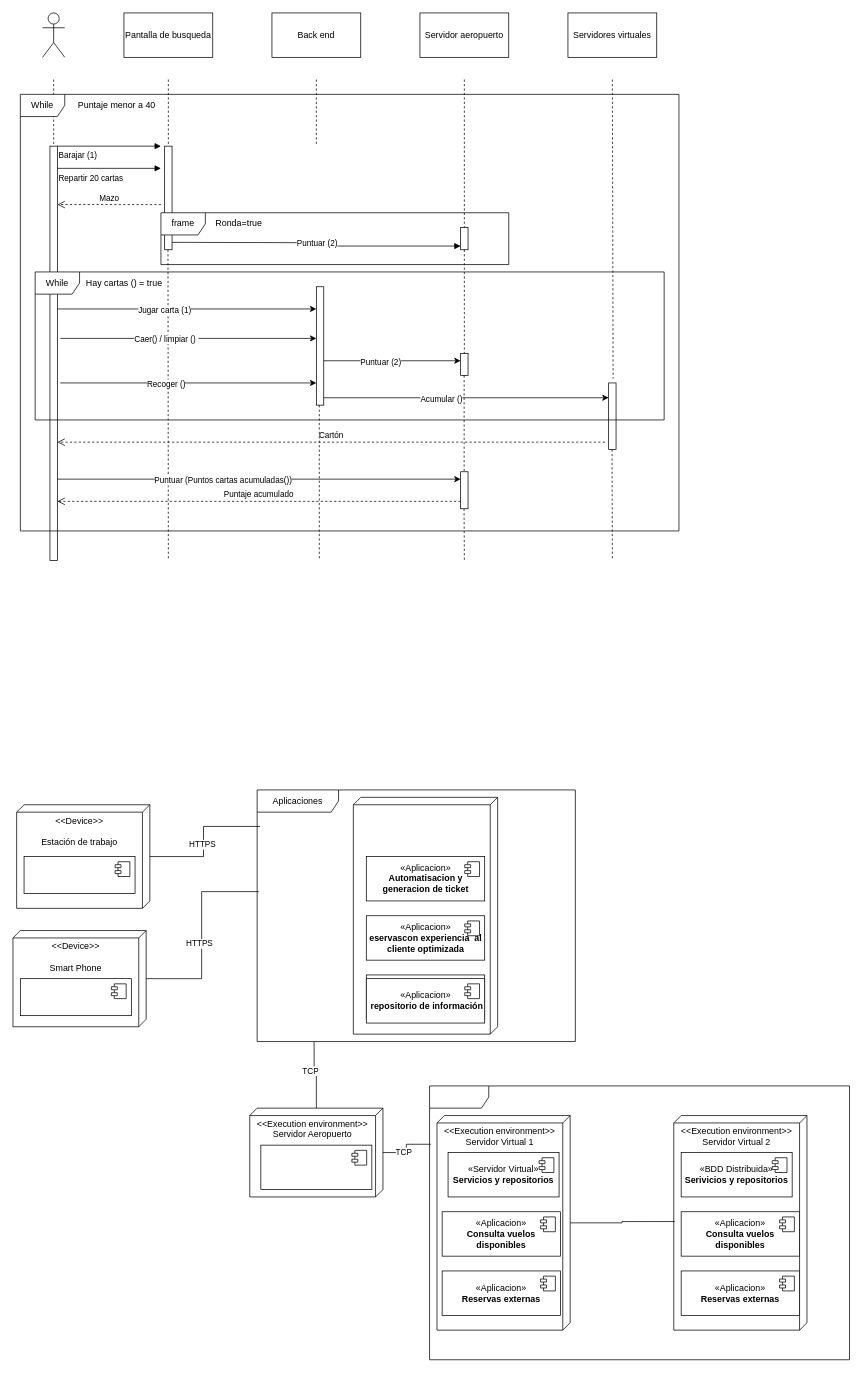
The diagram is 863 pixels wide and 1373 high, and some of its shapes have lost their labels. The box of each missing label's shape, as (x1, y1, x2, y2) in pixels:
<<Execution environment>> Sistema de reserva: (353, 797, 498, 1034)
Cluster Data Lake: (429, 1085, 850, 1360)
User: (42, 12, 65, 57)
«Aplicacion» App Nativa: (20, 978, 131, 1016)
«Aplicacion» Sitio web: (23, 856, 135, 894)
«DB aeropuerto» Sistemadel aeropurto: (260, 1144, 372, 1190)
